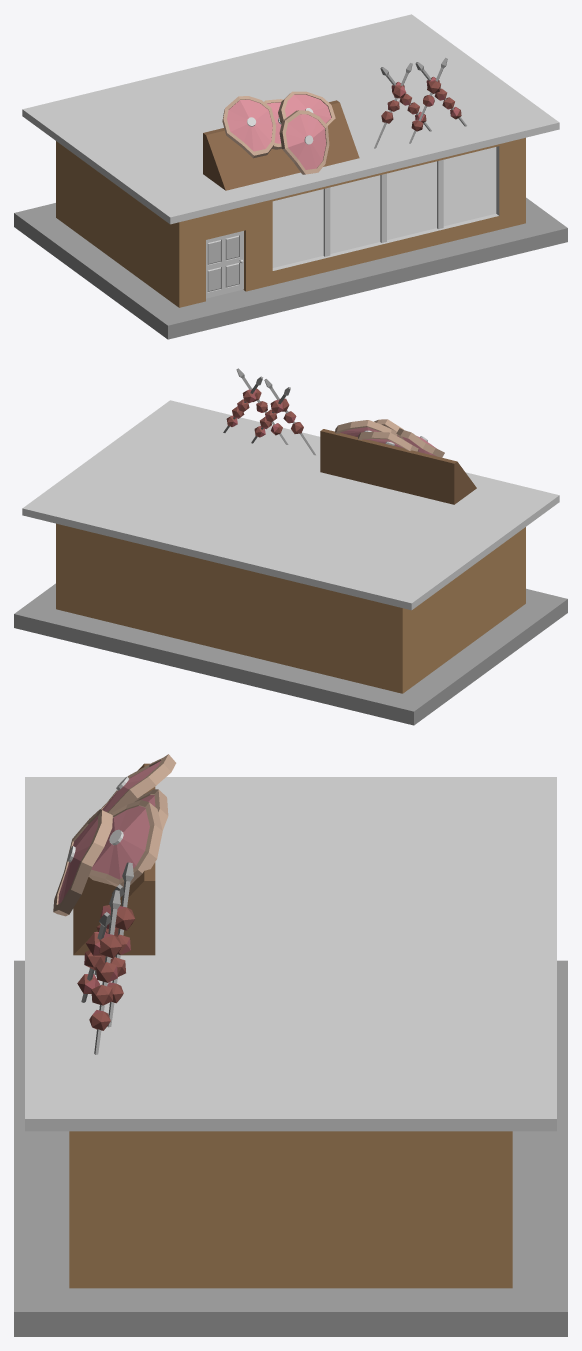
File: Shoppe_Meat.fbx
3 renders of one model, top to bottom at view 1: azimuth 30°, elevation 25°; view 2: azimuth 150°, elevation 25°; view 3: azimuth 270°, elevation 25°, orthographic. The views are drawn at different scales.
Visible parts, largest first — view 1: Mesh5 Plane1 skp30C1_1 Model.000; view 2: Mesh5 Plane1 skp30C1_1 Model.000; view 3: Mesh5 Plane1 skp30C1_1 Model.000.
Part boxes in pixels (x1,y1,x2,y2): Mesh5 Plane1 skp30C1_1 Model.000: (14, 14, 567, 339); Mesh5 Plane1 skp30C1_1 Model.000: (14, 368, 567, 725); Mesh5 Plane1 skp30C1_1 Model.000: (14, 754, 567, 1336).
Size of the model in its own units: 1500 by 678 by 1000.
